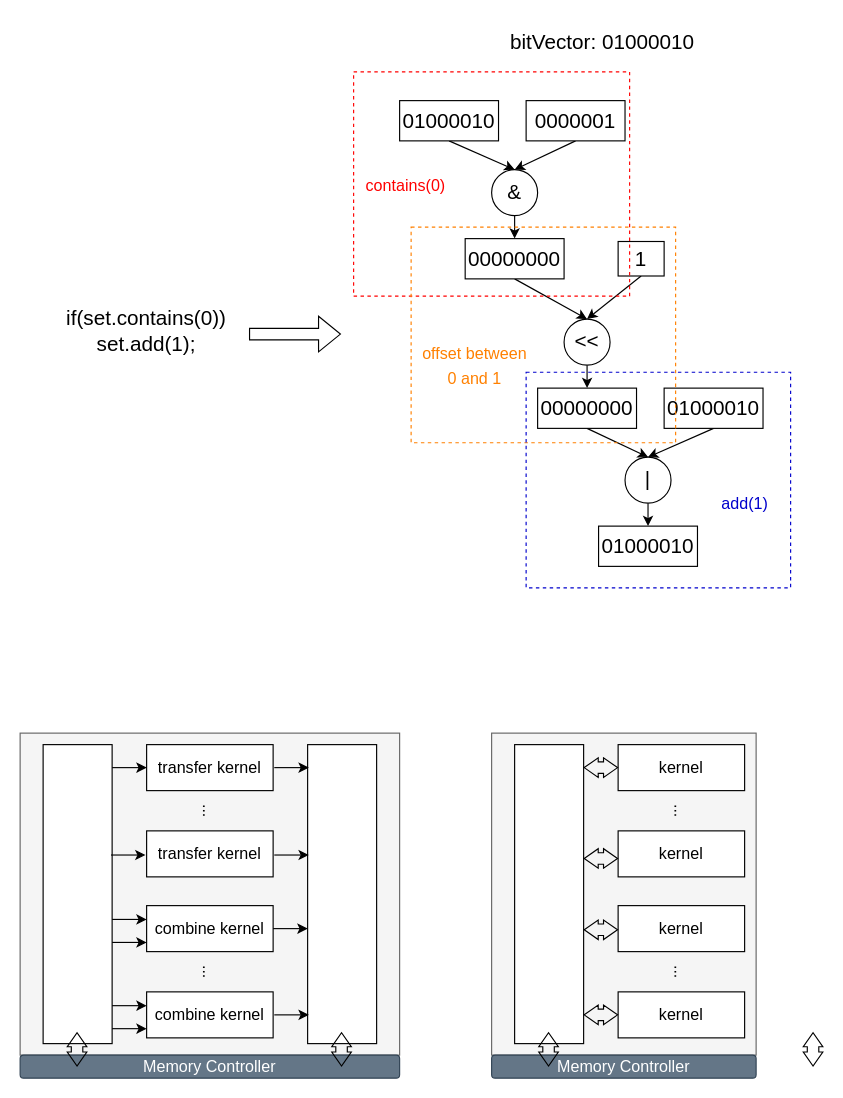
This 843x1098 diagram has some shape labels left out. Each missing label, with the box of its shape:
Input Memory Access: (42, 743, 112, 1044)
Inter-connect: (513, 743, 584, 1044)
Output Memory Access: (306, 743, 377, 1044)
